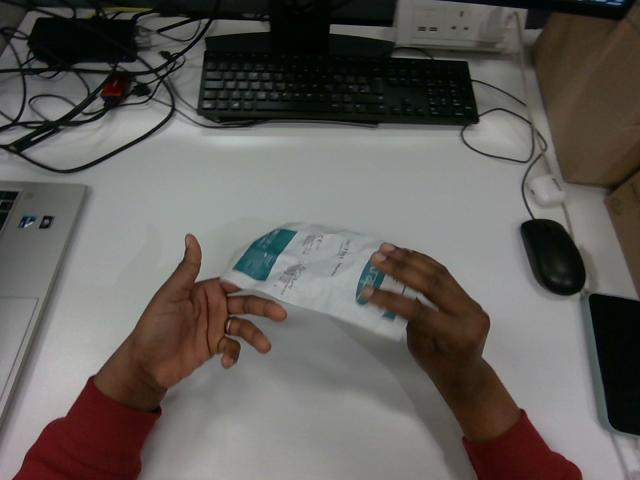gallipot: (222, 223, 416, 339)
